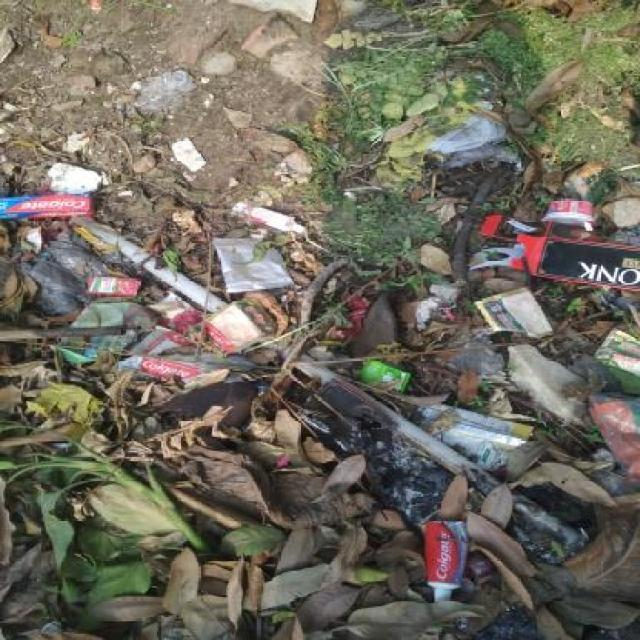garbage: (196, 300, 639, 640), (8, 171, 184, 632), (202, 211, 501, 318), (471, 185, 632, 314)
